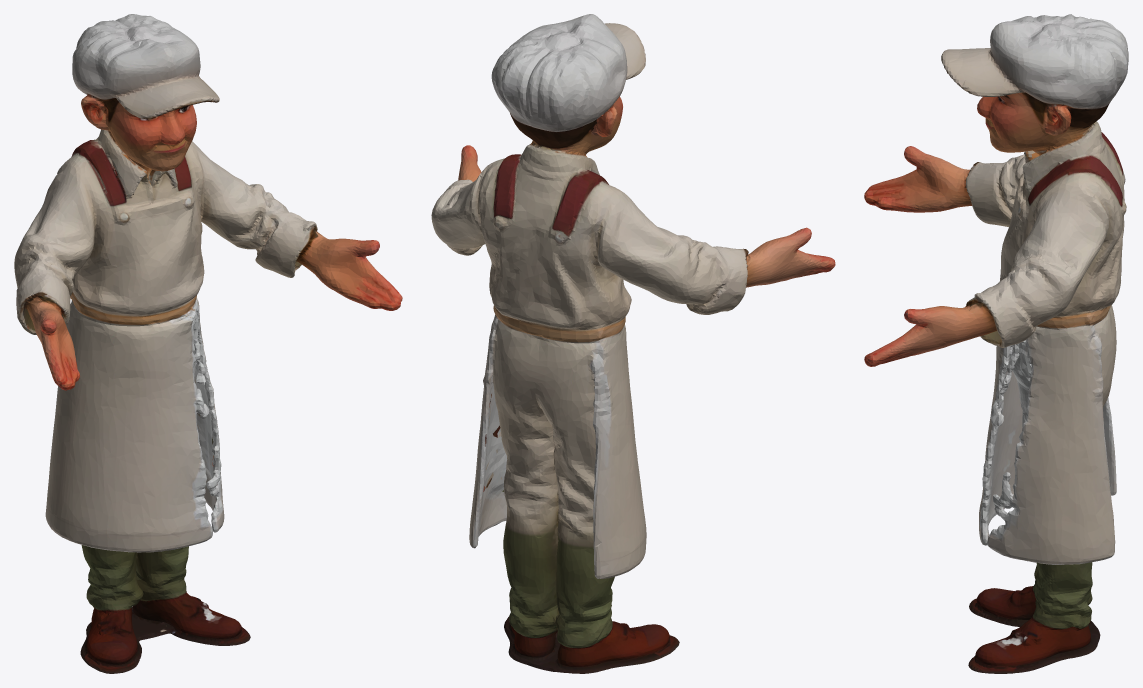
Rendered from villager_baker.glb.
3 renders of one model, left to right at view 1: azimuth 30°, elevation 25°; view 2: azimuth 150°, elevation 25°; view 3: azimuth 270°, elevation 25°, orthographic. The views are drawn at different scales.
Visible parts, largest first — view 1: textured_mesh.obj; view 2: textured_mesh.obj; view 3: textured_mesh.obj.
Boxes of the visible parts, bbox=[...] form: textured_mesh.obj: bbox=[14, 14, 402, 673]; textured_mesh.obj: bbox=[431, 14, 835, 673]; textured_mesh.obj: bbox=[864, 14, 1128, 673].
Bounding box in the file's own units: 1.2 × 1.99 × 0.7763.
Materials: 1 (1 with a texture image).
